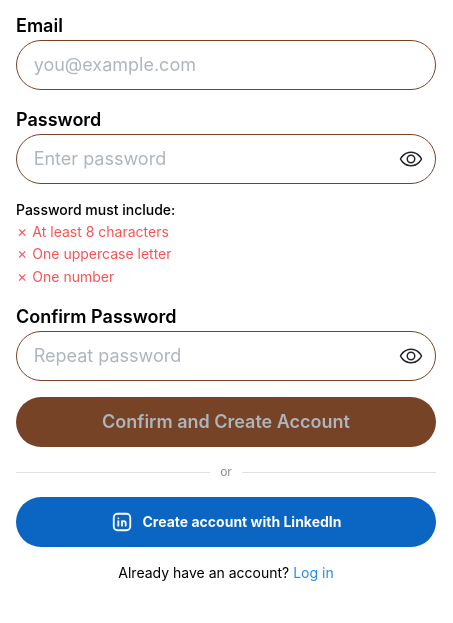
Register › shows a mismatch error when confirm password does not match
The image size is (453, 623).
Type "david@example.com" into the field labelled "Email" at (226, 65), box [16, 40, 436, 90]
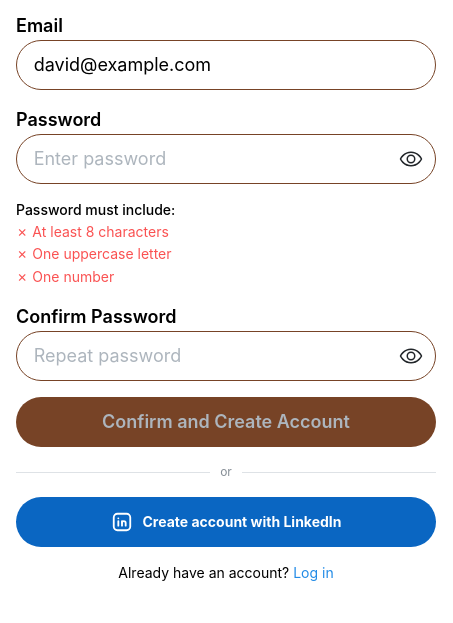
Type "Password1" into the password field labelled "Password" at (226, 159), box [17, 135, 435, 183]
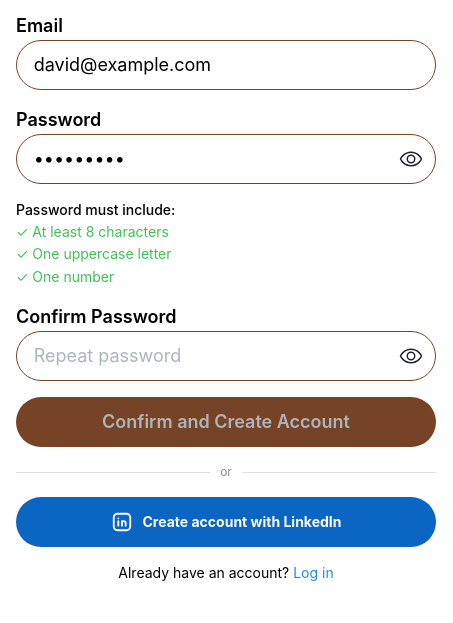
Type "Password2" into the password field labelled "Confirm Password" at (226, 356), box [17, 332, 435, 380]
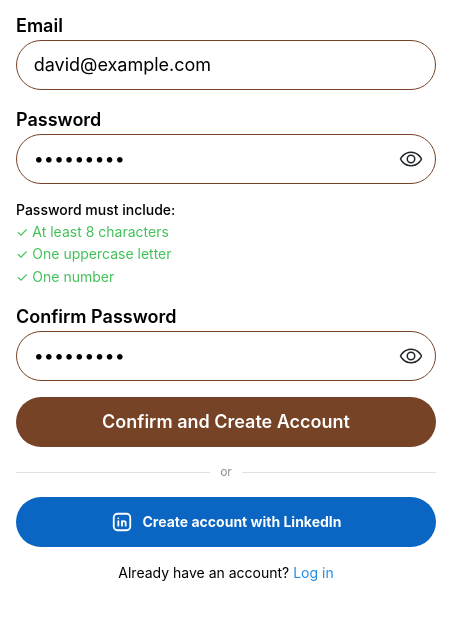
Click the button "Confirm and Create Account" at (226, 422), box [16, 397, 436, 447]
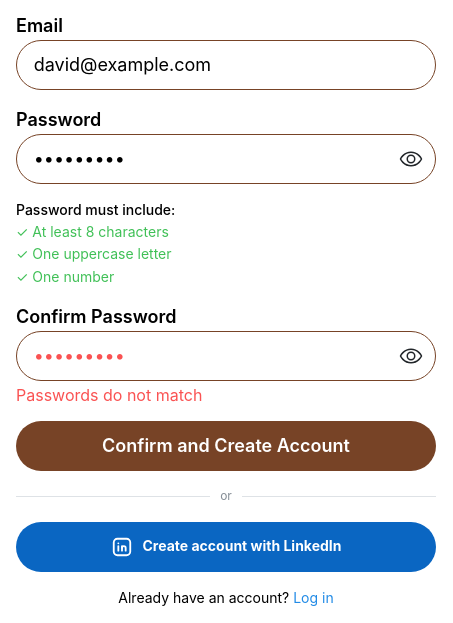
Now the text "Passwords do not match" is shown, box [16, 385, 202, 405]
